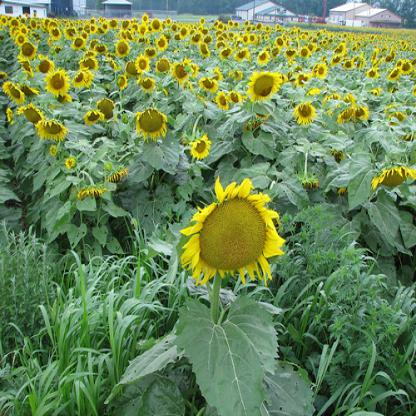SUN FLOWER: (4, 8, 411, 402)
